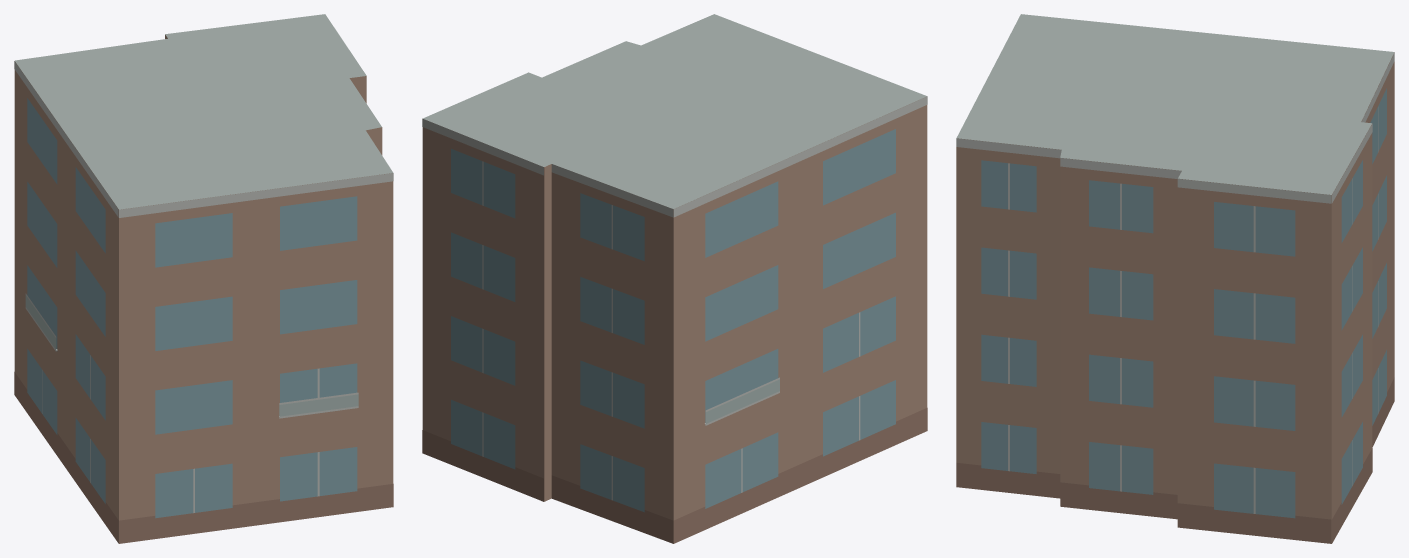
File: survey-upis-32935064.glb
The picture shows the model from 3 angles, left to right: view 1: azimuth 30°, elevation 25°; view 2: azimuth 150°, elevation 25°; view 3: azimuth 270°, elevation 25°; orthographic projection. The views are drawn at different scales.
Visible parts, largest first — view 1: survey-upis-32935064.tmp; view 2: survey-upis-32935064.tmp; view 3: survey-upis-32935064.tmp.
Boxes of the visible parts, <box> form: survey-upis-32935064.tmp: <box>14,14,393,543</box>; survey-upis-32935064.tmp: <box>422,14,927,543</box>; survey-upis-32935064.tmp: <box>956,14,1394,543</box>.
Bounding box in the file's own units: 10.77 × 9.67 × 11.02.
